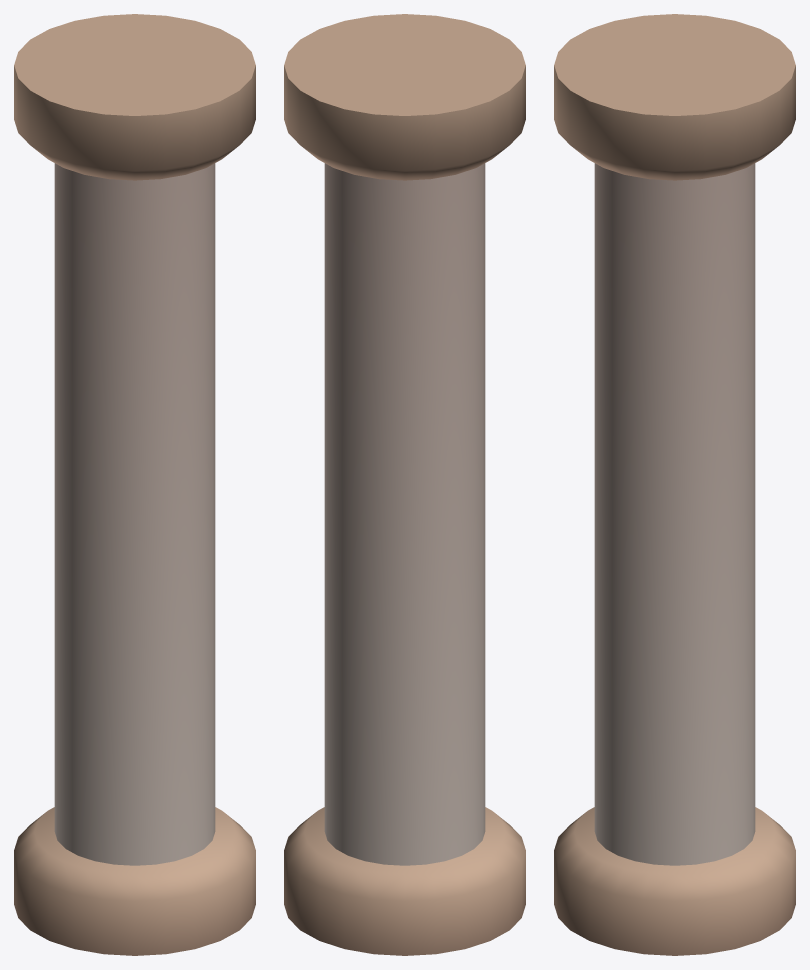
Rendered from column-round.glb.
3 views of the same model, side by side, from view 1: azimuth 30°, elevation 25°; view 2: azimuth 150°, elevation 25°; view 3: azimuth 270°, elevation 25° (orthographic).
Visible parts, largest first — view 1: column-round; view 2: column-round; view 3: column-round.
Boxes of the visible parts, x1=… form: column-round: x1=14, y1=14, x2=255, y2=955; column-round: x1=284, y1=14, x2=525, y2=955; column-round: x1=554, y1=14, x2=795, y2=955.
Bounding box in the file's own units: 0.6 × 2.3 × 0.6.
